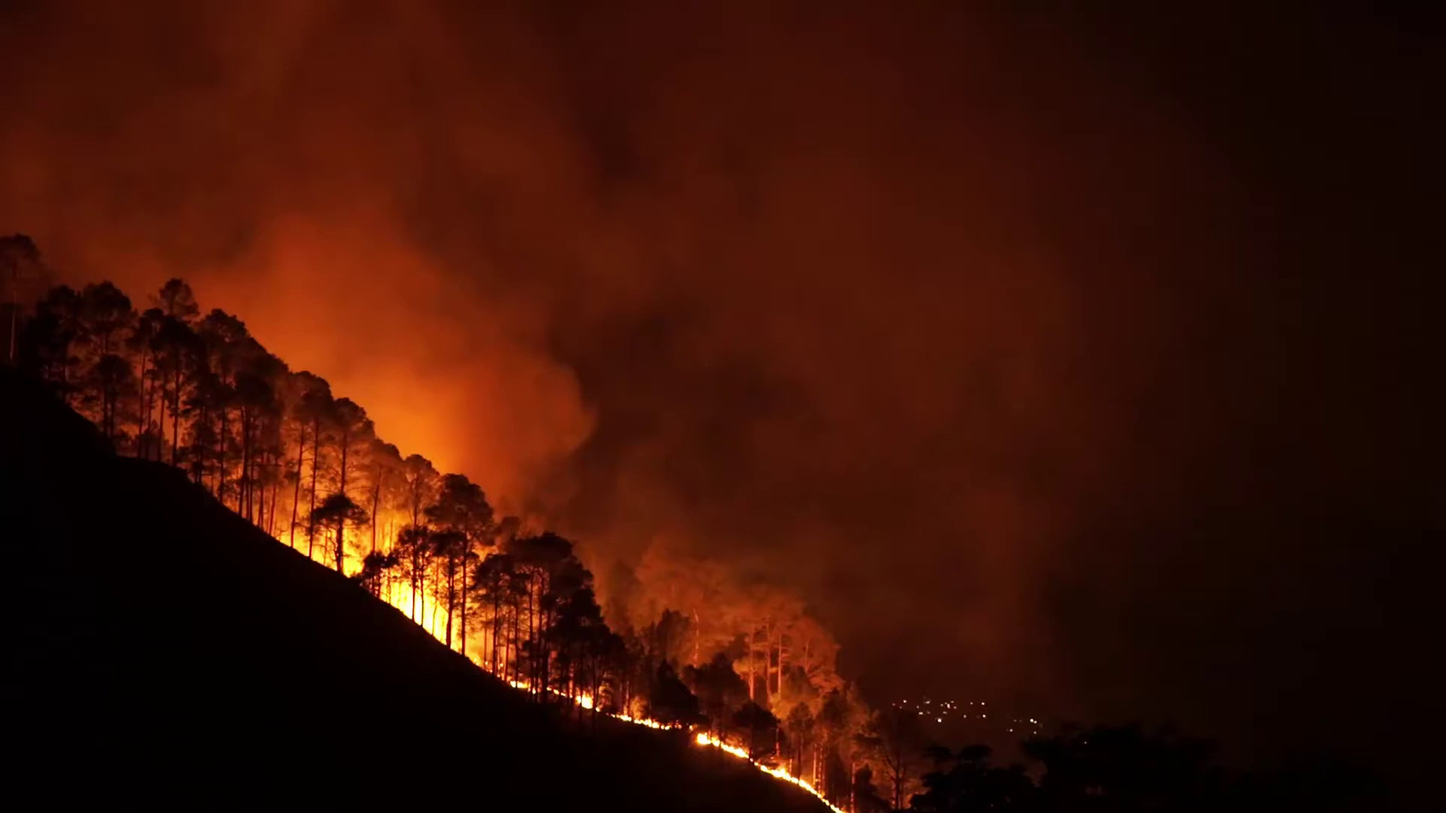forest_fire: (20, 279, 875, 808)
